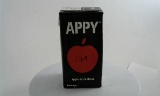appy: (54, 6, 98, 89)
